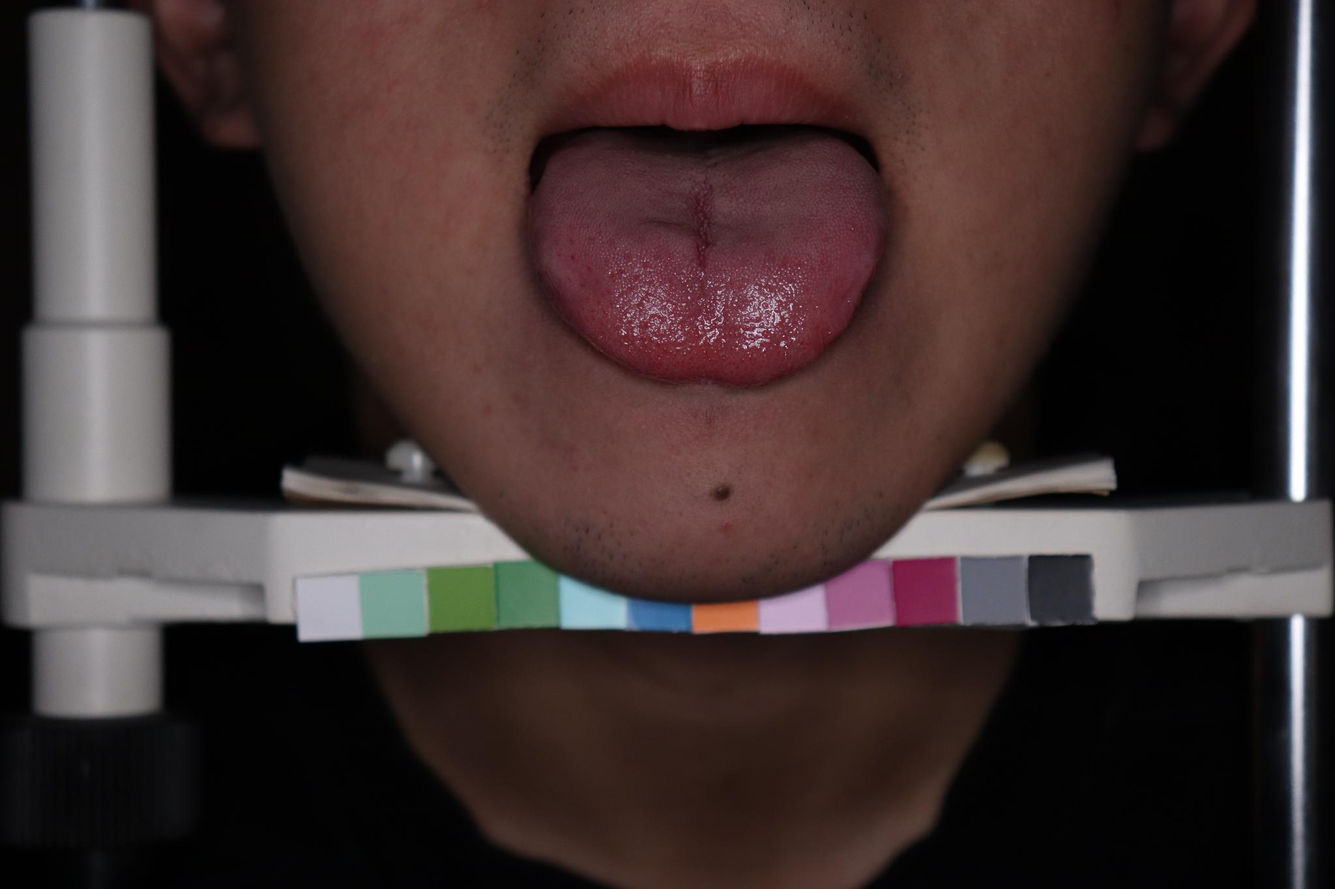baitaishe: (529, 137, 887, 388)
liewenshe: (687, 177, 716, 277)
pangdashe: (527, 135, 886, 387)
